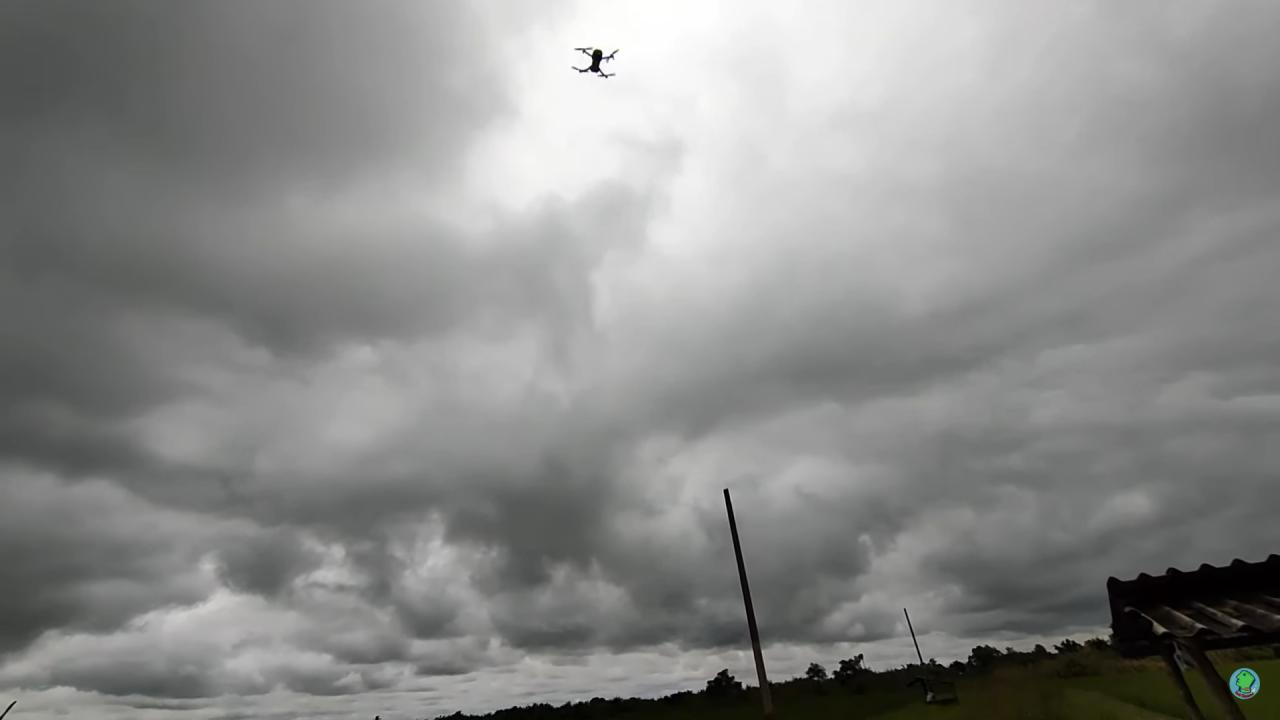Drone: (562, 36, 626, 88)
